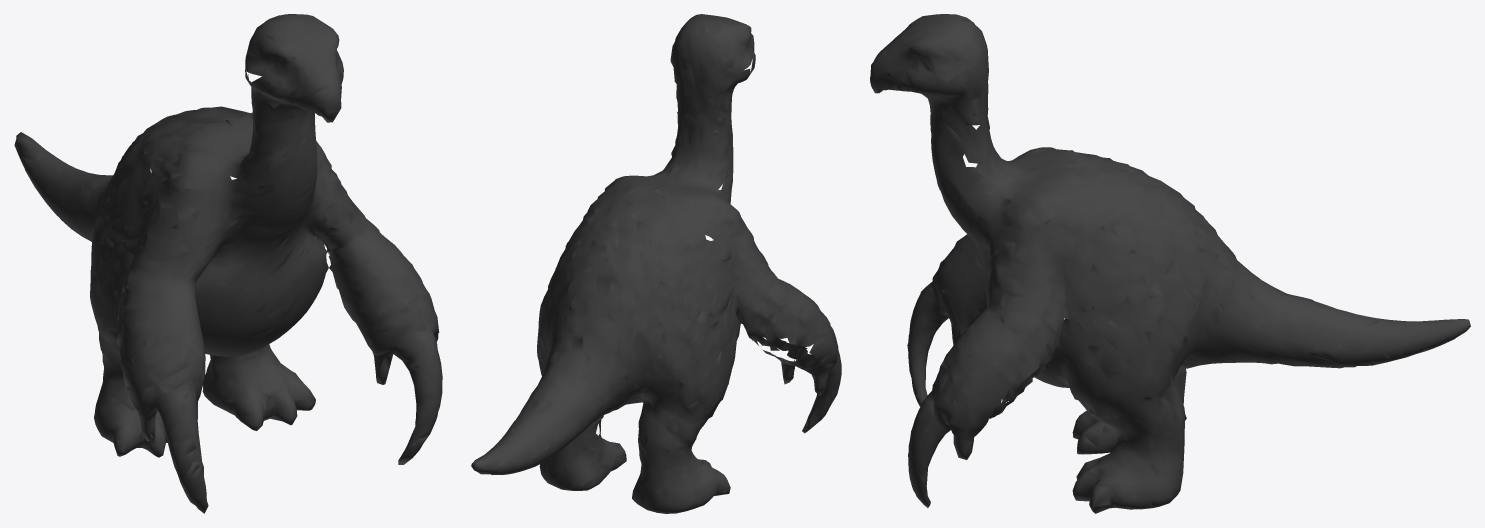
Rendered from therizinosaurus.glb.
3 views of the same model, side by side, from view 1: azimuth 30°, elevation 25°; view 2: azimuth 150°, elevation 25°; view 3: azimuth 270°, elevation 25° (orthographic). The views are drawn at different scales.
Visible parts, largest first — view 1: geometry_0; view 2: geometry_0; view 3: geometry_0.
Part boxes in pixels (bbox=[...]): geometry_0: bbox=[14, 14, 442, 513]; geometry_0: bbox=[471, 14, 841, 513]; geometry_0: bbox=[870, 14, 1470, 513].
Size of the model in its own units: 0.5504 by 0.826 by 1.
1 material, 1 textured.
